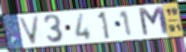1: (97, 11, 112, 40), (119, 10, 134, 37)
3: (43, 13, 66, 45)
4: (74, 12, 92, 41)
M: (137, 5, 172, 38)
V: (17, 15, 41, 46)
